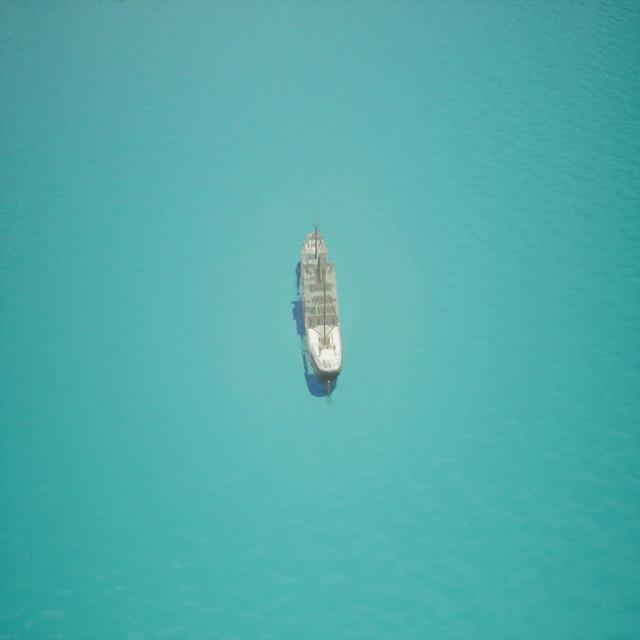fishing ship: (291, 189, 352, 422)
